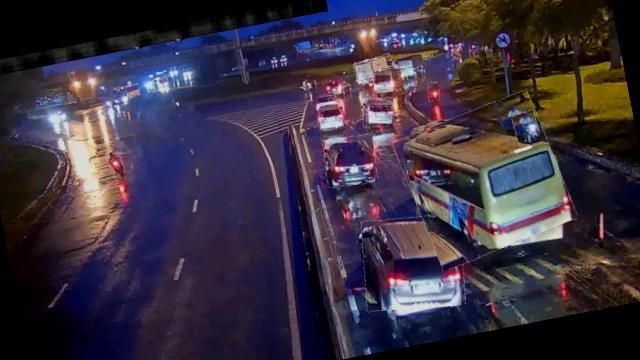Bike: (512, 110, 542, 147), (106, 149, 126, 180), (427, 80, 441, 101)
Bus: (394, 90, 576, 268)
Car: (354, 206, 473, 320), (321, 131, 380, 189), (359, 94, 396, 130), (372, 65, 411, 94), (314, 100, 346, 132)
Truck: (352, 54, 396, 84)
